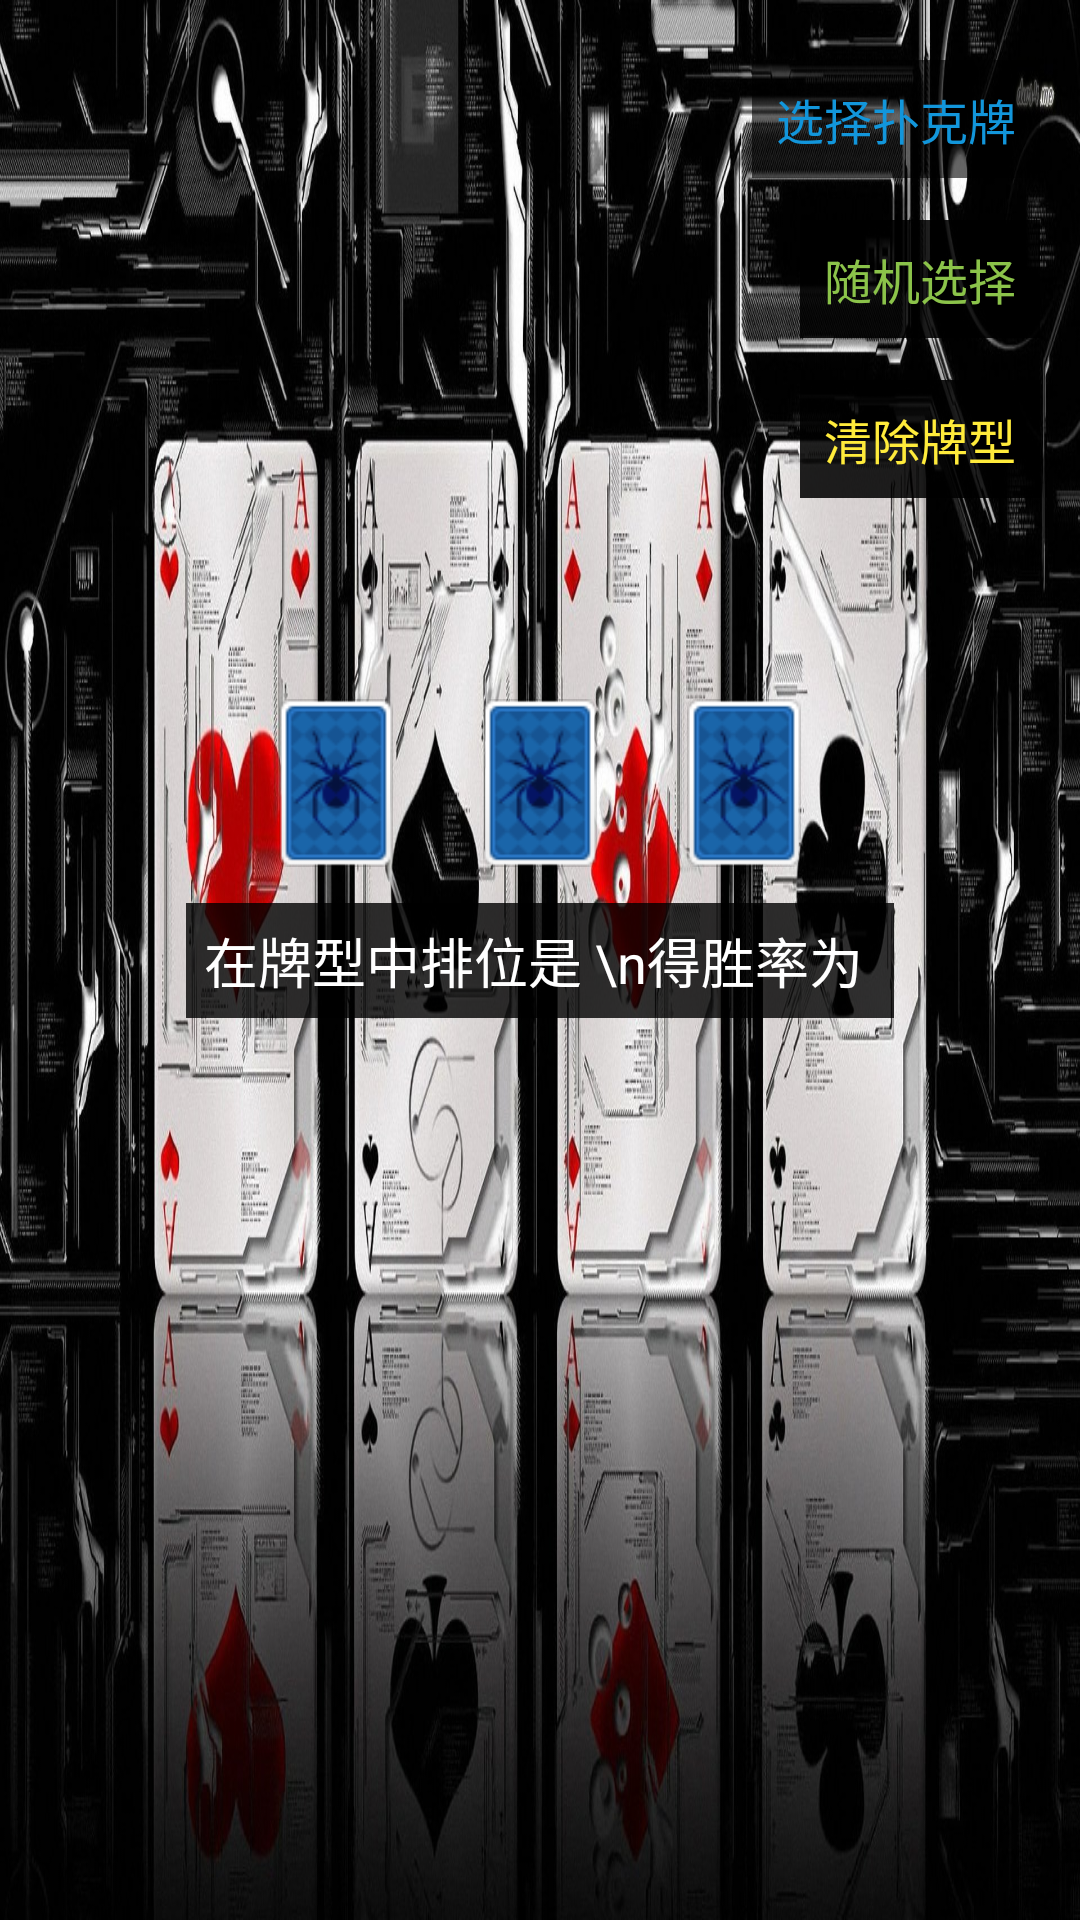

Point at icon controls on the screen. Image size 1080×1920, points as (x=x, y=y).
card: (x=336, y=783), (x=540, y=783), (x=744, y=783)
